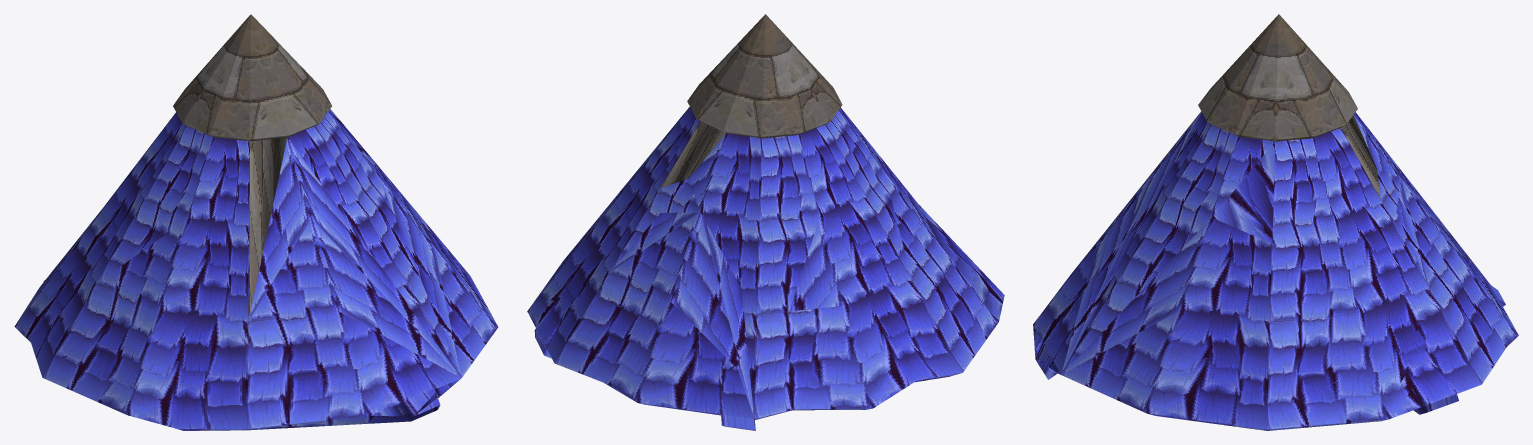
File: item_castle_turret_topper.glb
3 views of the same model, side by side, from view 1: azimuth 30°, elevation 25°; view 2: azimuth 150°, elevation 25°; view 3: azimuth 270°, elevation 25° (orthographic). The views are drawn at different scales.
Parts seen in each view (by area): view 1: Topper; view 2: Topper; view 3: Topper.
Part boxes in pixels (x1=…): Topper: x1=14, y1=14, x2=498, y2=430; Topper: x1=527, y1=14, x2=1004, y2=430; Topper: x1=1033, y1=14, x2=1518, y2=430.
Size of the model in its own units: 1.72 by 1.3 by 1.72.
Materials: 1 (1 with a texture image).
